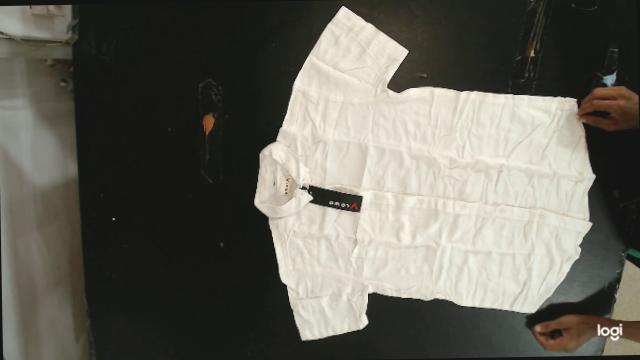new-garment: (255, 6, 594, 339)
